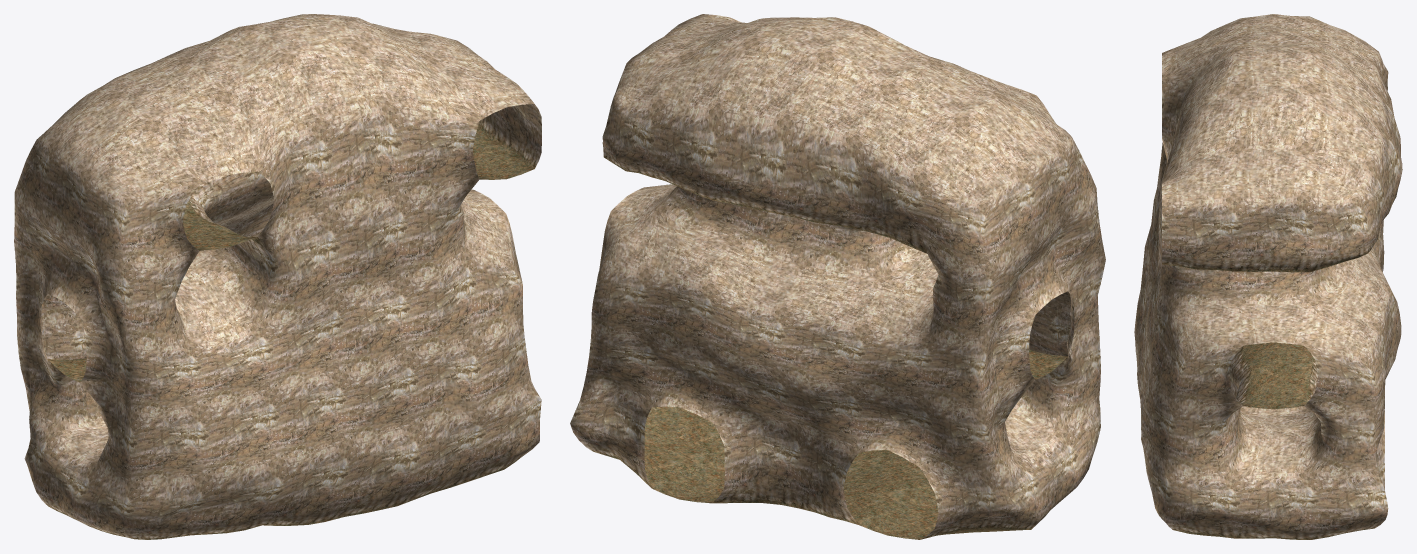
File: thm_all_cave_flatland_s03_r9_mesh_r9.fbx
The picture shows the model from 3 angles, left to right: view 1: azimuth 30°, elevation 25°; view 2: azimuth 150°, elevation 25°; view 3: azimuth 270°, elevation 25°; orthographic projection. The views are drawn at different scales.
Visible parts, largest first — view 1: mesh_node; view 2: mesh_node; view 3: mesh_node.
Part boxes in pixels (x1,y1,x2,y2): mesh_node: (14, 14, 541, 539); mesh_node: (570, 14, 1105, 539); mesh_node: (1134, 14, 1402, 539).
Size of the model in its own units: 50.64 by 50.06 by 28.87.
